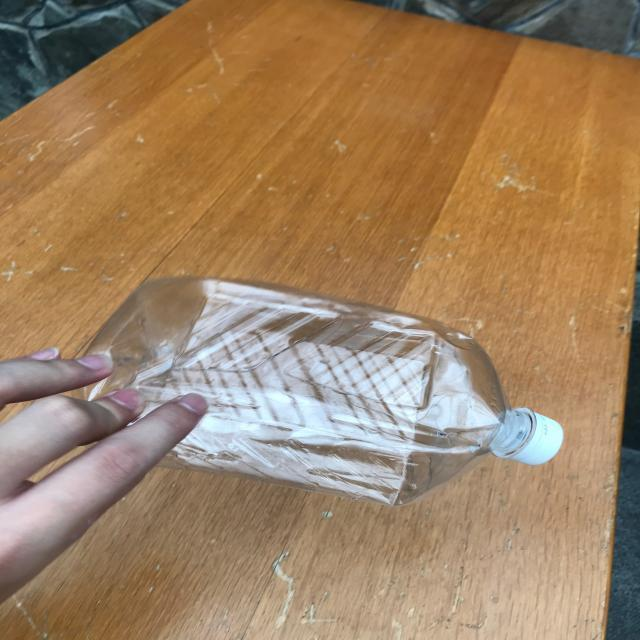plastic_bottle: (84, 276, 565, 506)
